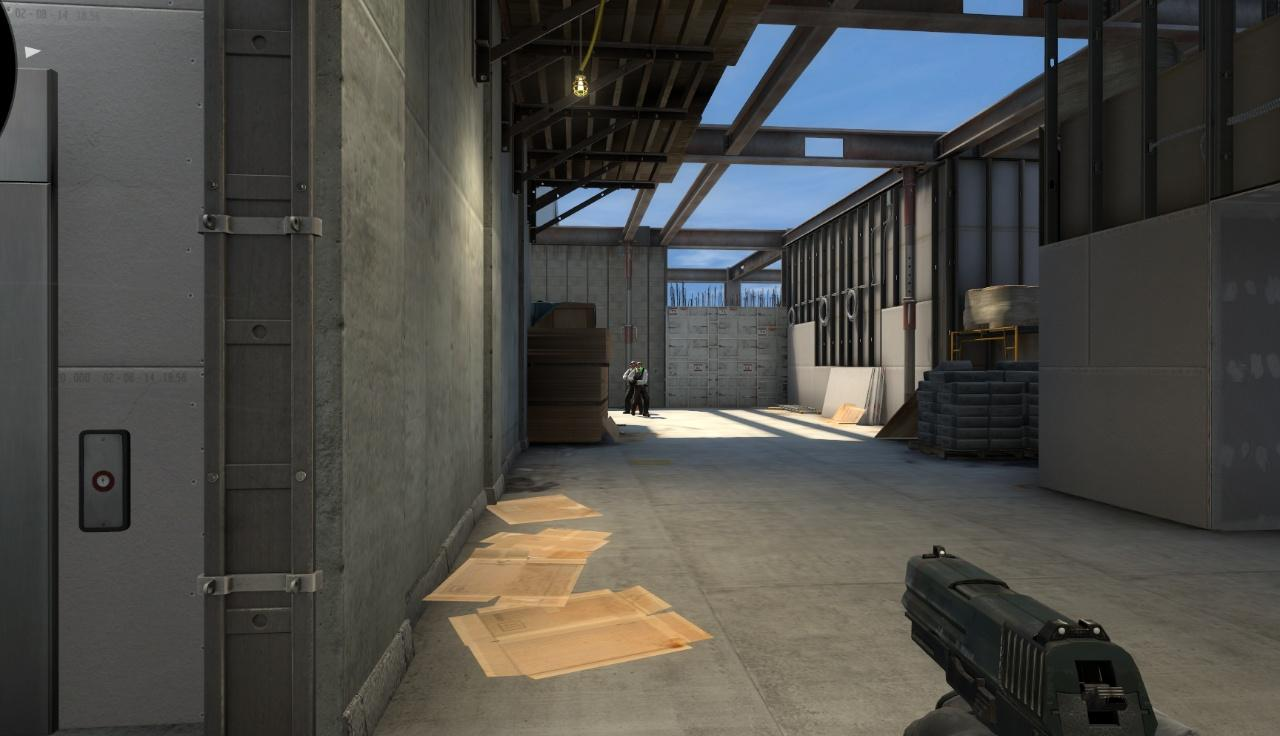pistol: (901, 540, 1159, 736)
tt: (628, 361, 649, 417)
tthead: (634, 362, 643, 372)
